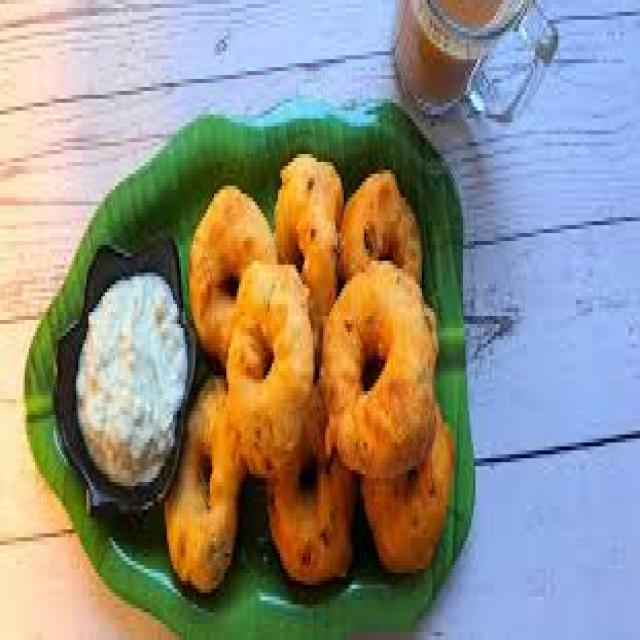MEDU VADA: (323, 269, 438, 478), (218, 265, 313, 478), (165, 379, 245, 589), (191, 186, 276, 356), (362, 419, 453, 569), (278, 154, 340, 324), (268, 458, 350, 581), (344, 170, 420, 277)
